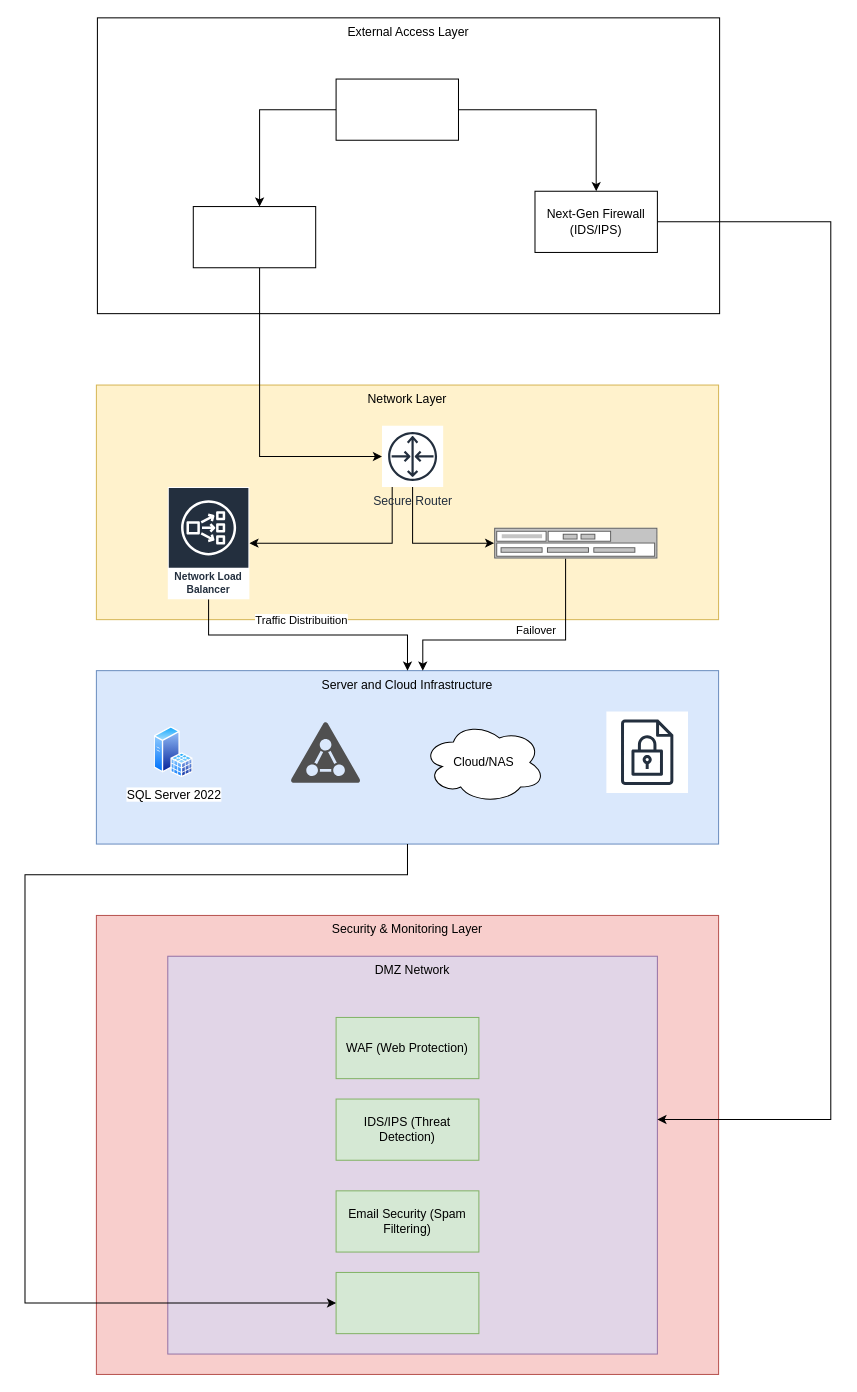
Image size: 857x1392. Some labels were removed from this diagram. The shapes that lost their labels are listed below. From the top down, each one's centre as x and y in pixels, then its label:
point (396, 109): Internet
point (254, 237): VPN Gateway
point (575, 542): Redundant Switches
point (325, 751): Active Directory Server
point (646, 751): AES-256 Encrypted
point (407, 1302): SIEM
